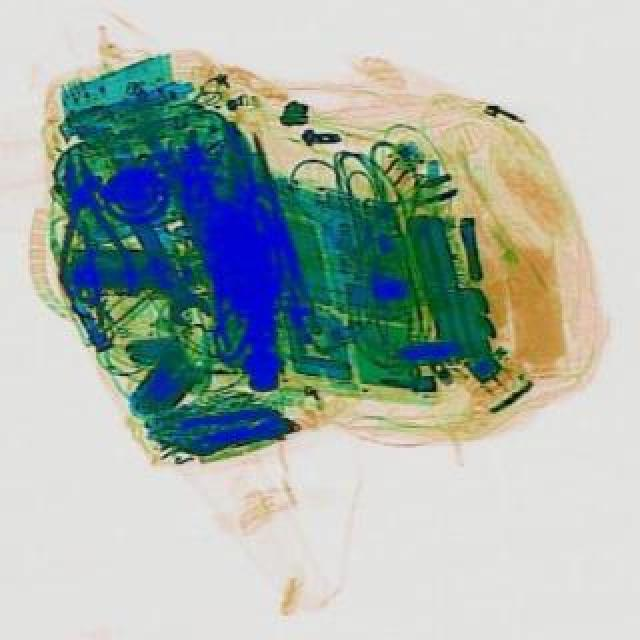scissors: (116, 210, 214, 334)
wrench: (34, 150, 136, 304)
